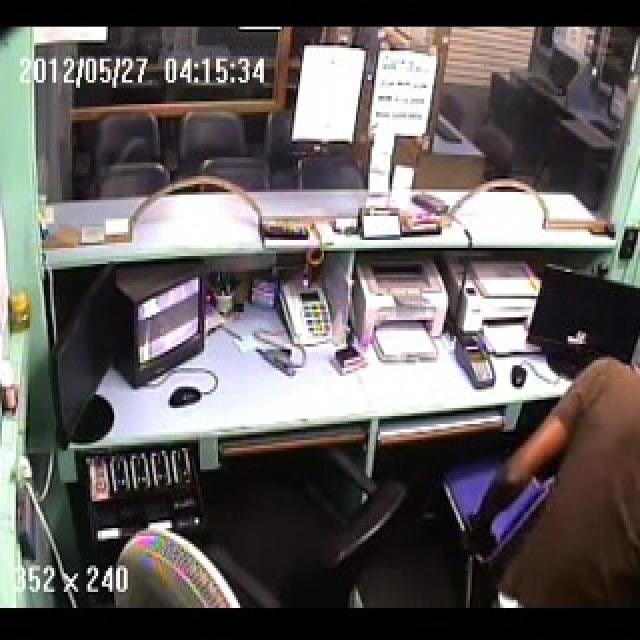thief: (467, 326, 640, 603)
